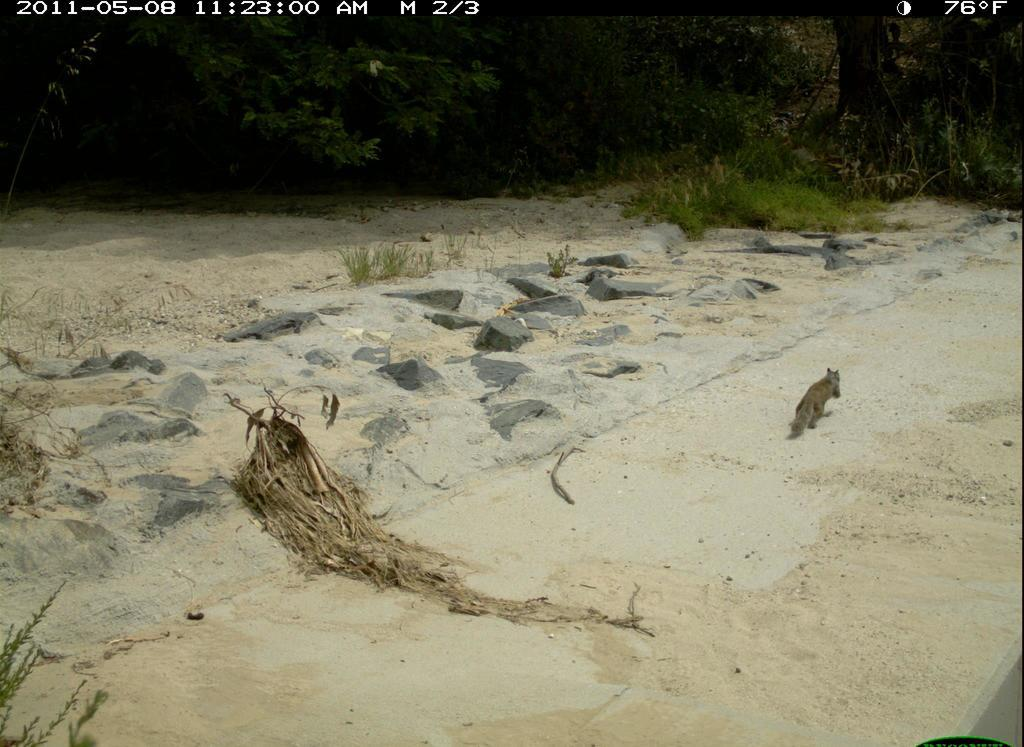squirrel: (786, 365, 848, 441)
